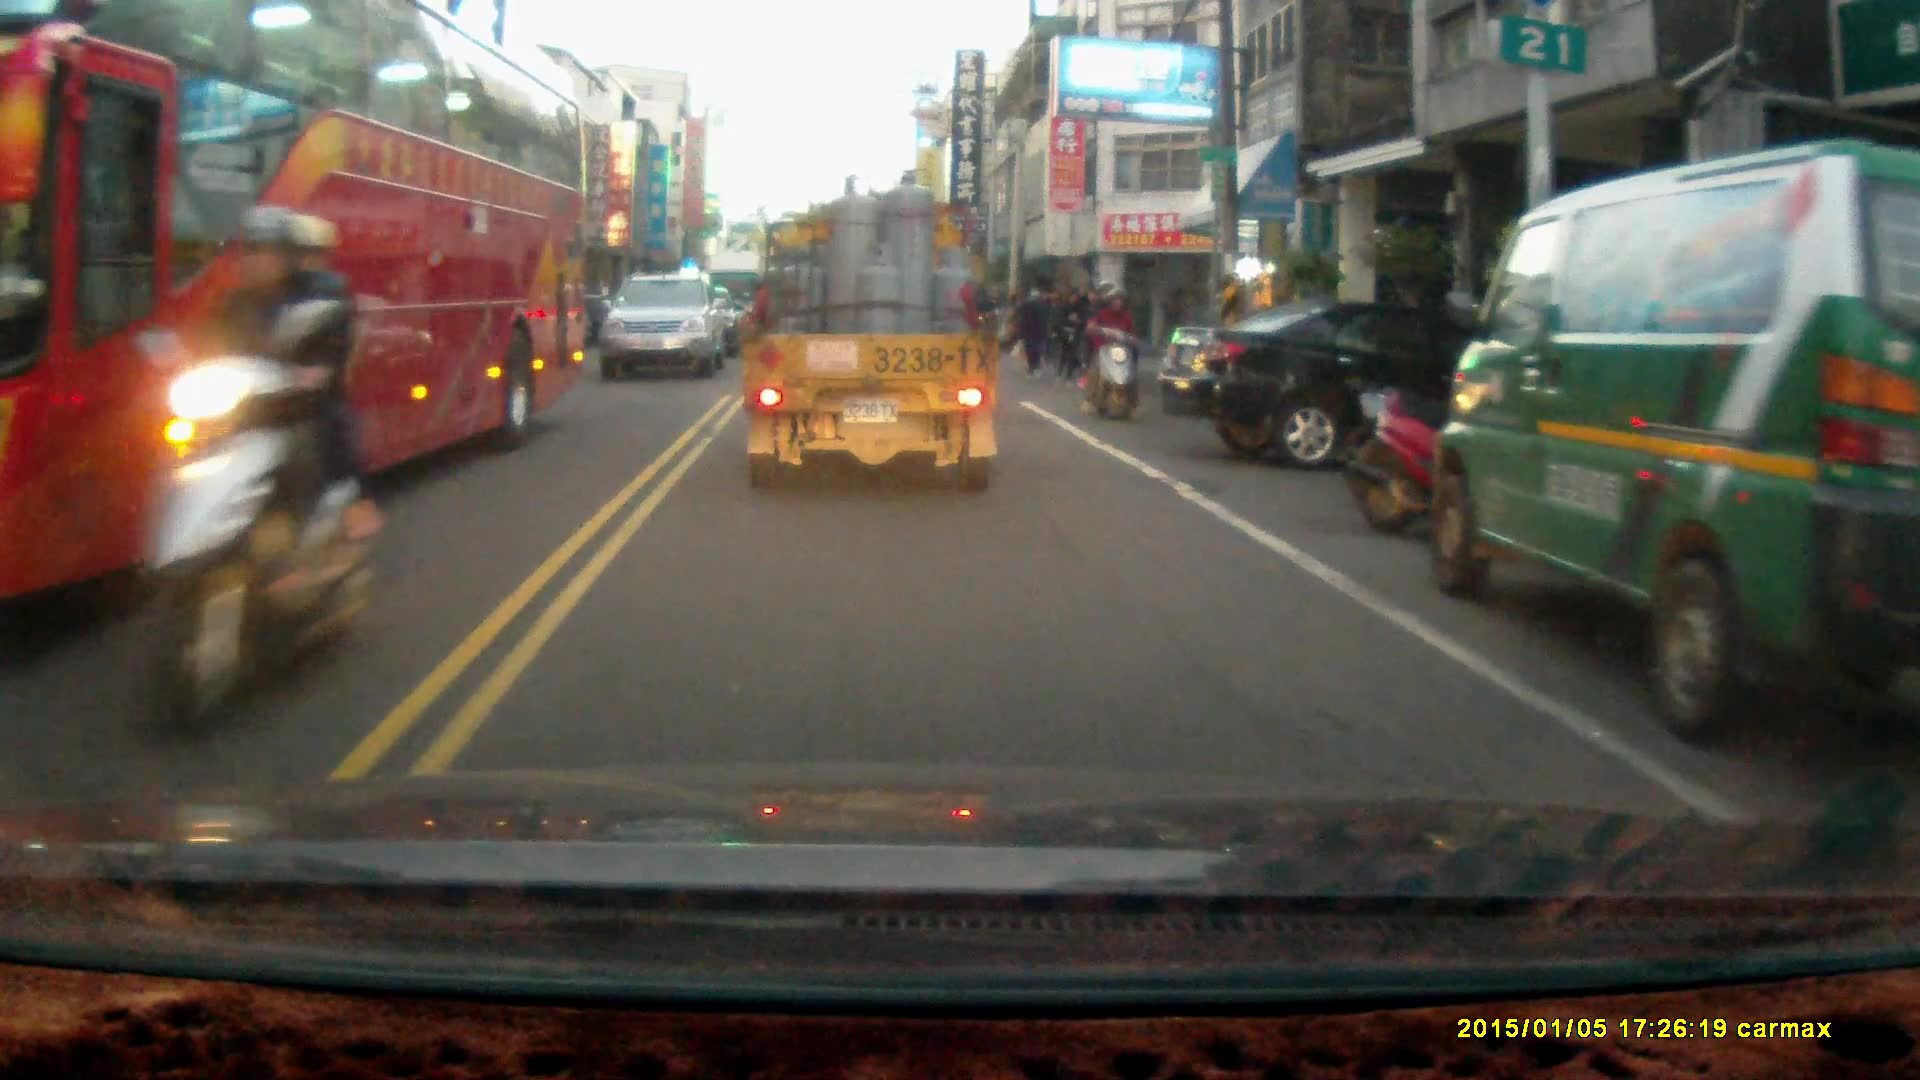pedestrian: (1053, 285, 1088, 387), (1018, 285, 1053, 371)
rider: (117, 201, 382, 744), (1084, 276, 1147, 424)
vehicle: (1, 7, 599, 627), (1429, 133, 1920, 749), (740, 167, 1004, 493), (1168, 299, 1530, 474), (603, 273, 730, 382)
